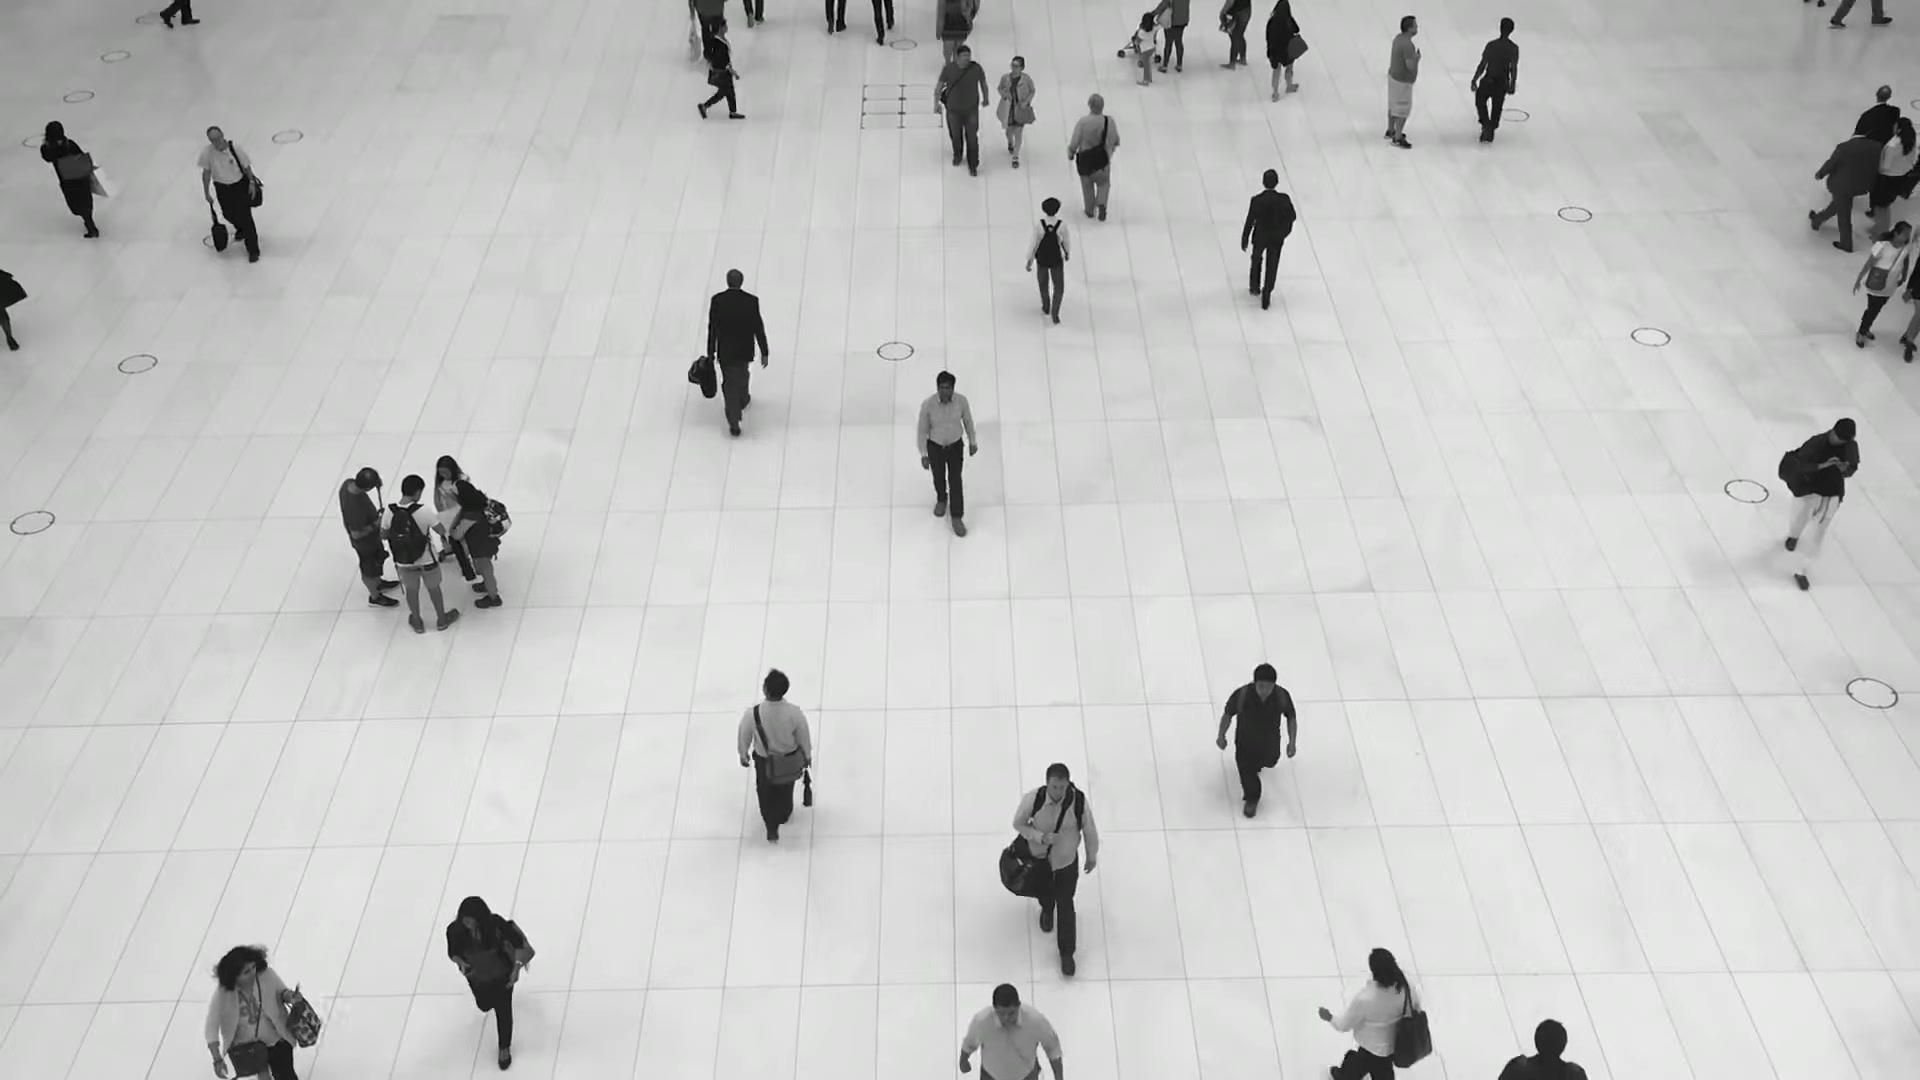person: (1013, 766, 1099, 980), (1318, 940, 1415, 1080), (204, 944, 305, 1080), (736, 668, 813, 842), (1781, 416, 1861, 585), (445, 895, 522, 1064), (378, 476, 459, 637), (1220, 661, 1299, 808), (916, 374, 979, 541), (706, 267, 769, 425), (1805, 121, 1881, 252), (954, 989, 1060, 1079), (335, 465, 400, 610), (195, 124, 261, 263), (1845, 222, 1910, 355), (1240, 171, 1296, 317), (1066, 93, 1123, 227), (933, 46, 990, 179), (39, 120, 100, 240), (1468, 18, 1519, 150), (449, 482, 501, 611), (1859, 117, 1912, 238), (1028, 195, 1072, 324), (1383, 15, 1421, 149), (427, 458, 467, 580), (995, 55, 1035, 168), (1260, 3, 1301, 105), (709, 17, 744, 121), (1135, 12, 1156, 87)
